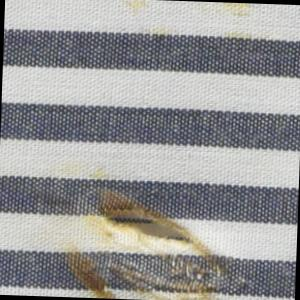Damage: (93, 203, 226, 300)
Oil Stain: (48, 160, 241, 300)
Stain: (118, 1, 261, 54)
